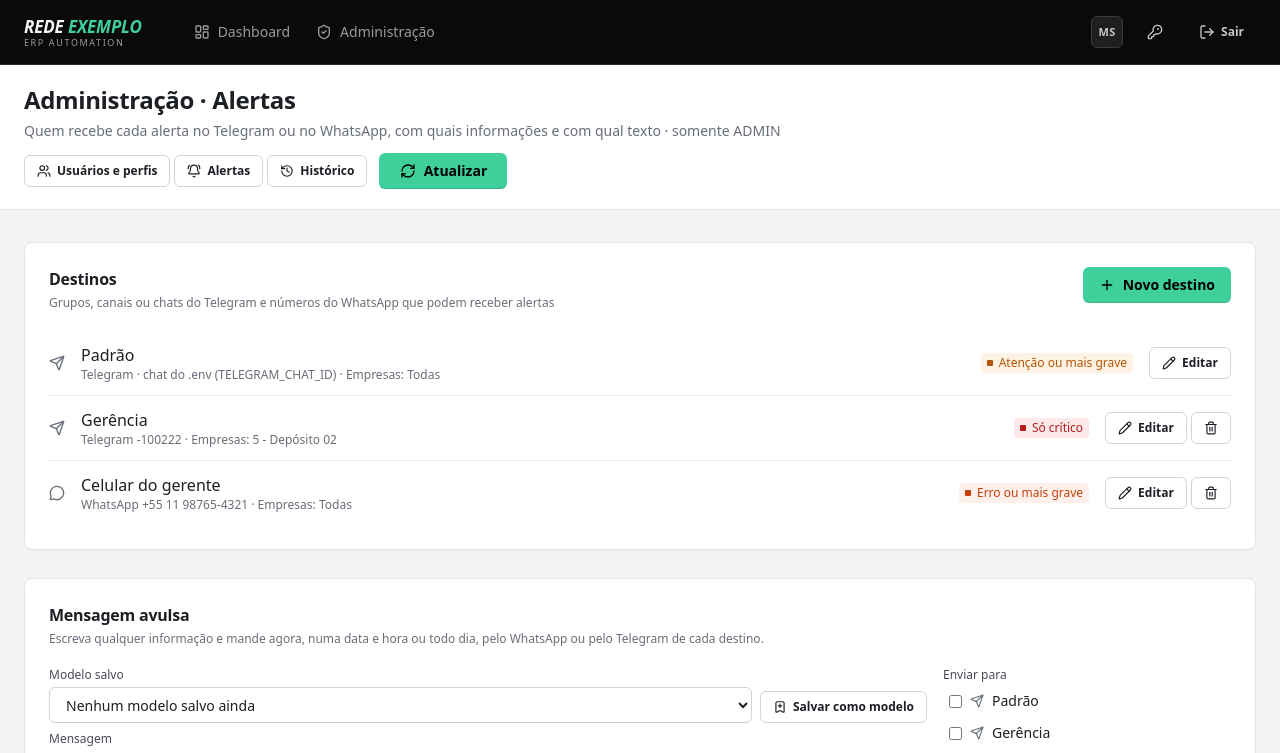
Test: AdminAlertasPage › excluir destino com histórico mostra o 409 da API
Click the button named "Excluir destino Gerência".
click(1211, 428)  # box [1191,412,1231,444]
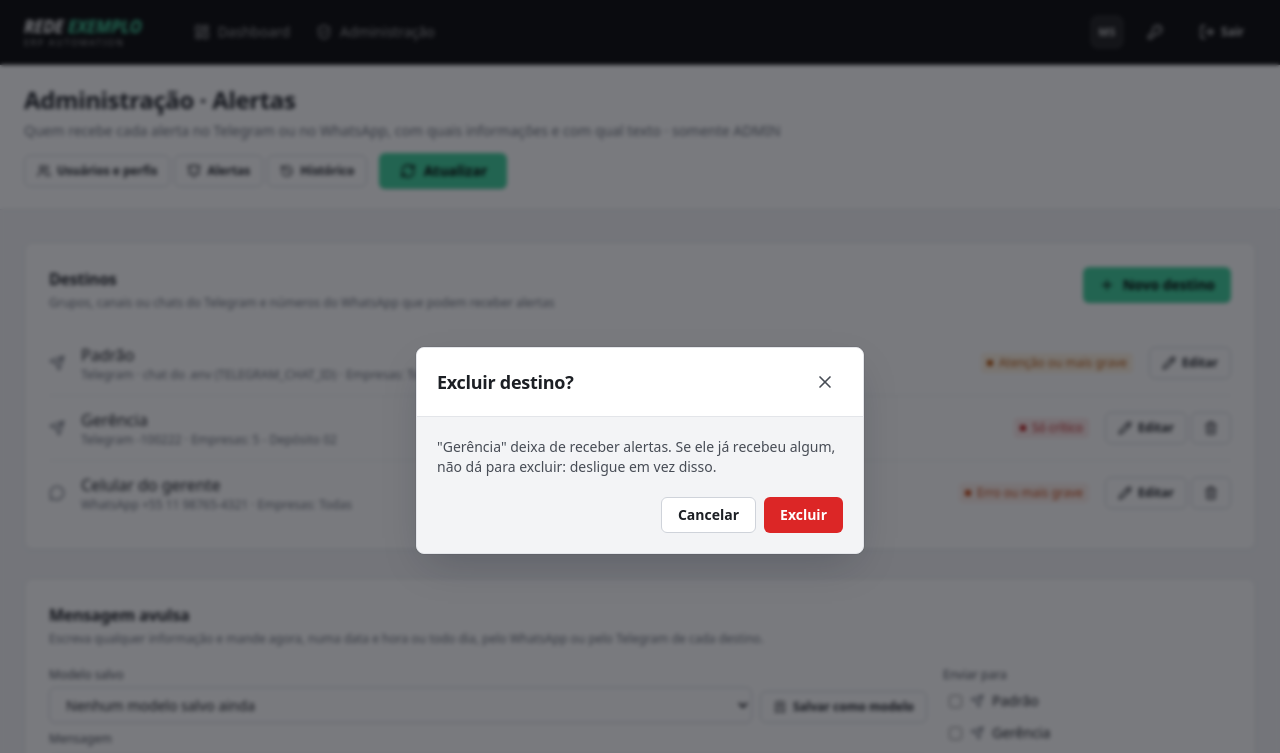
Click the button "Excluir".
click(804, 514)  # box [764,496,843,532]
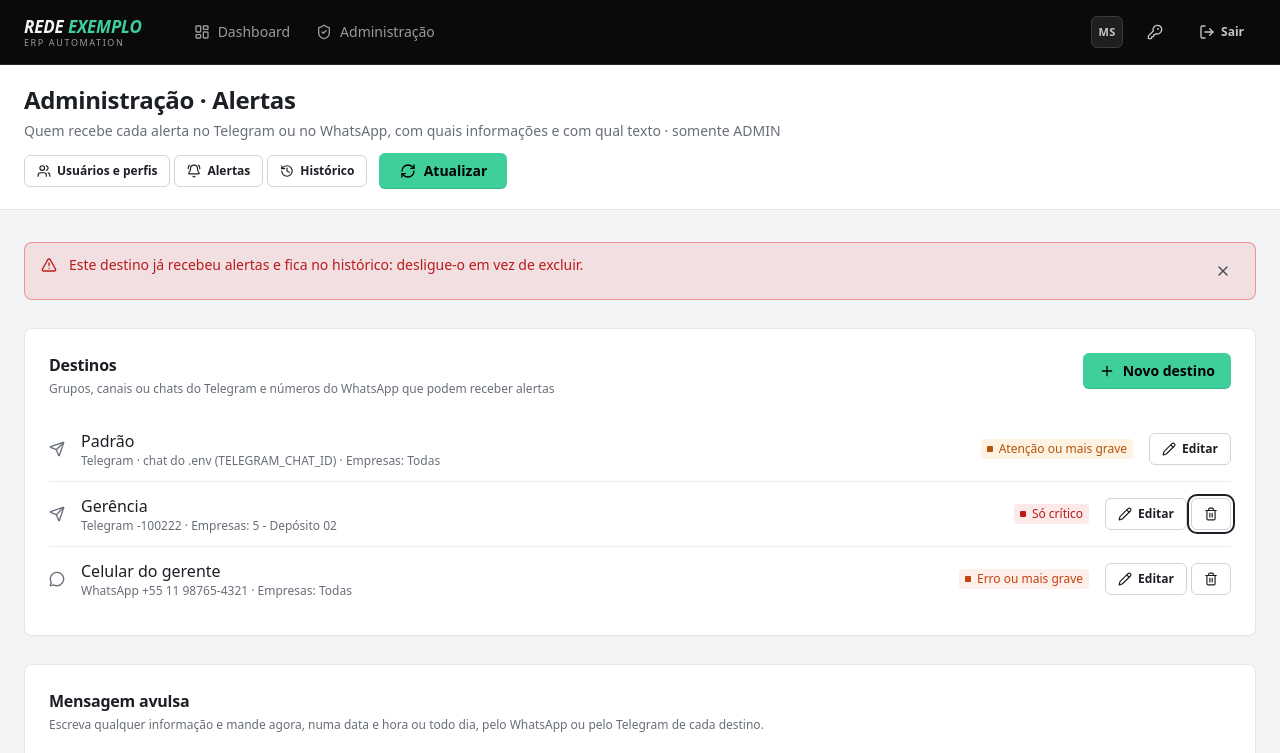
Now the message shows "desligue-o em vez de excluir", box [69,255,583,274]
